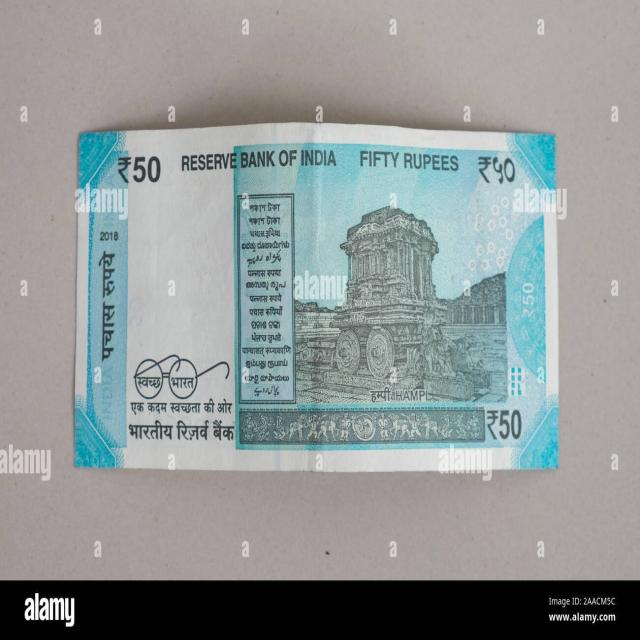50IndianRupees: (72, 126, 561, 468), (231, 125, 562, 472), (77, 135, 327, 469)
